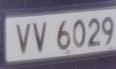0: (72, 15, 88, 53)
2: (88, 14, 103, 50)
6: (54, 17, 73, 55)
9: (100, 13, 115, 49)
V: (14, 21, 34, 57), (31, 20, 51, 56)
